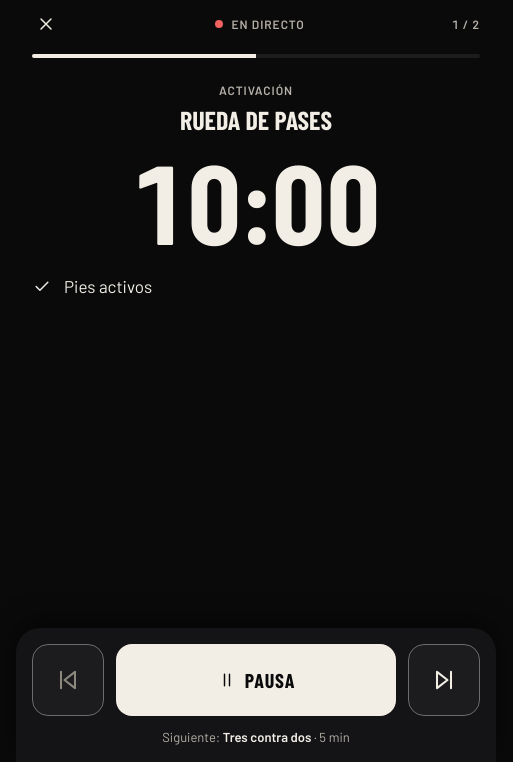
Test: en curso › «Siguiente ejercicio» avanza y lo envía con la posición nueva
Click the button named "Siguiente ejercicio".
click(444, 680)  # box [408,644,480,716]
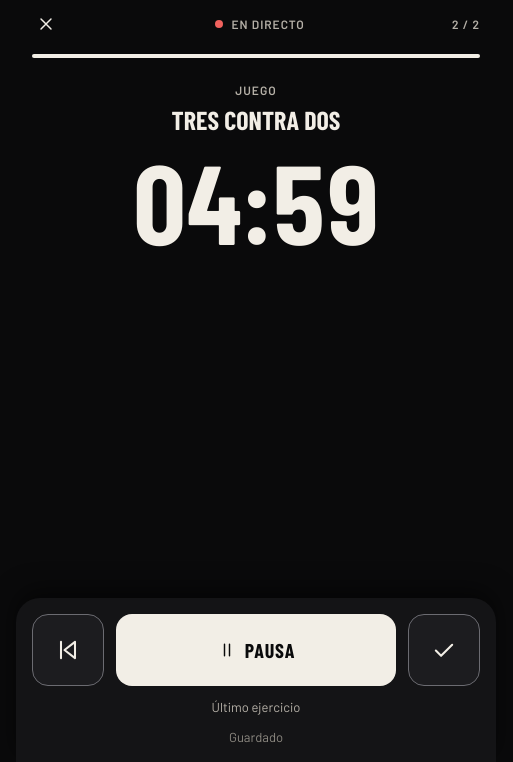
Result: the text "2 / 2" is shown at [452,16,480,32]
